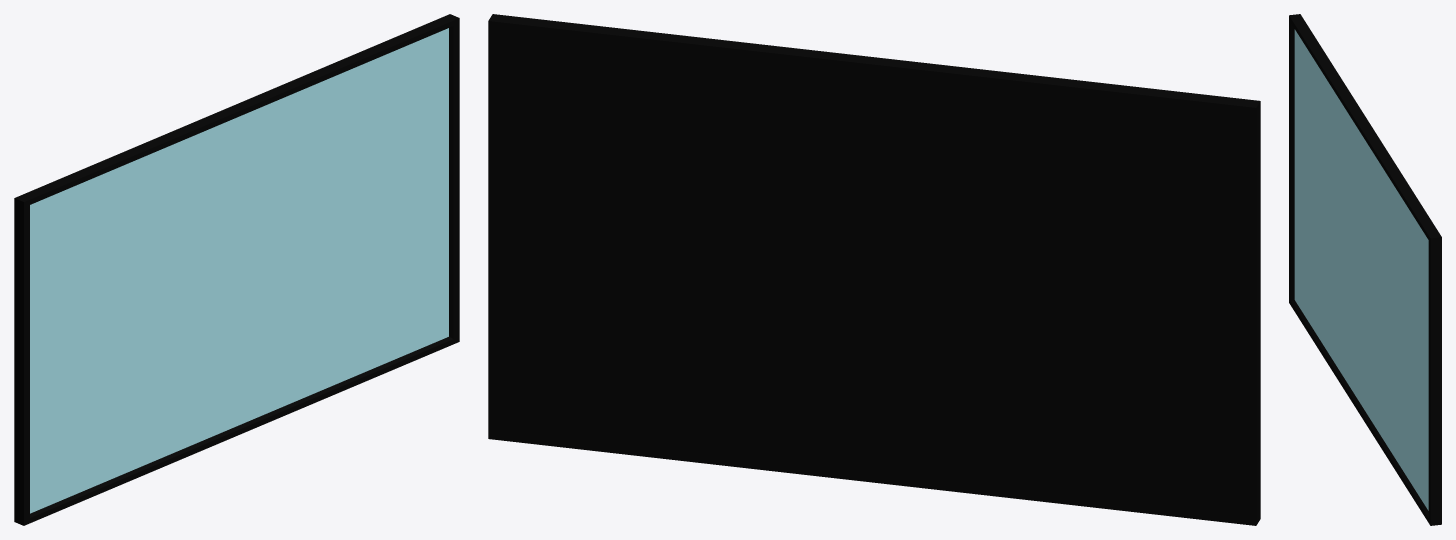
Rendered from LeftScreen.fbx.
3 renders of one model, left to right at view 1: azimuth 30°, elevation 25°; view 2: azimuth 150°, elevation 25°; view 3: azimuth 270°, elevation 25°, orthographic. The views are drawn at different scales.
Visible parts, largest first — view 1: Box033; view 2: Box033; view 3: Box033.
Boxes of the visible parts, x1,y1,x2,y2 form: Box033: [14, 14, 459, 525]; Box033: [488, 14, 1260, 525]; Box033: [1289, 14, 1441, 525].
Size of the model in its own units: 188 by 112 by 54.23.
